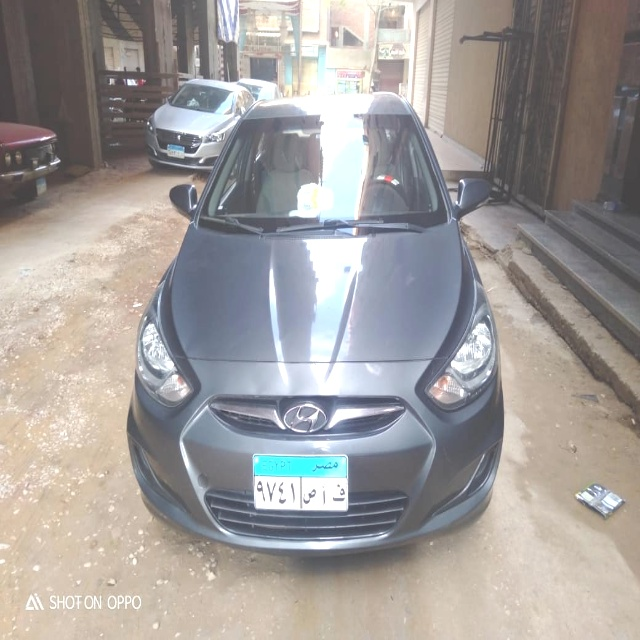License Plate: (251, 451, 351, 514), (166, 143, 186, 160)
